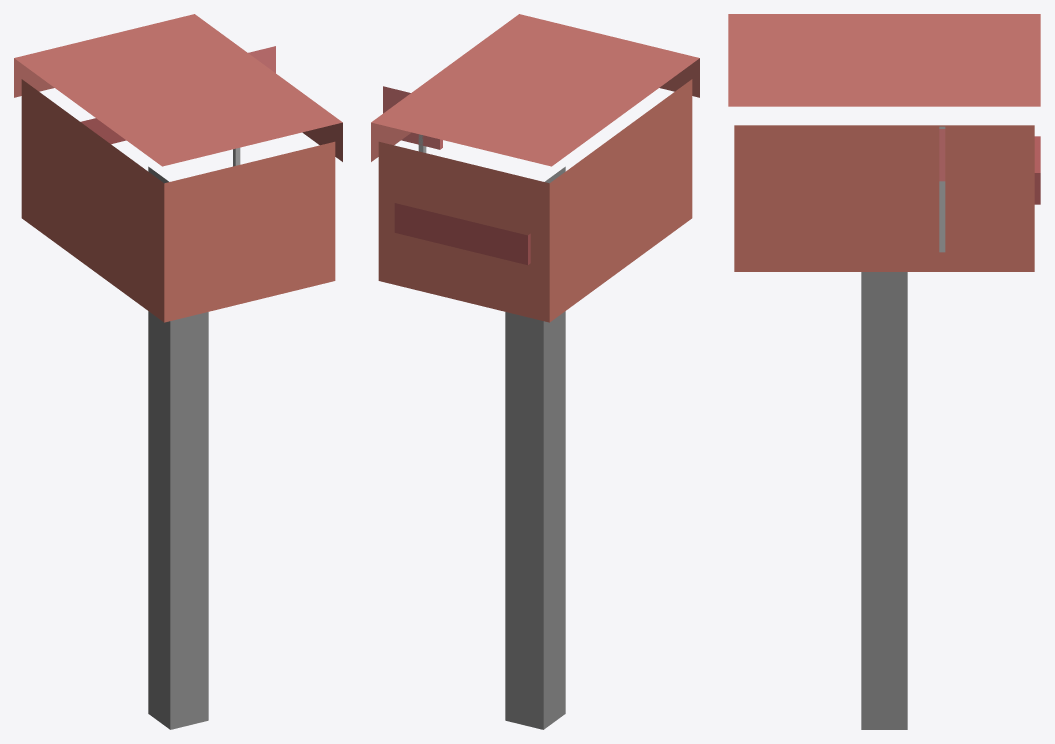
File: mailbox.glb
The picture shows the model from 3 angles, left to right: view 1: azimuth 30°, elevation 25°; view 2: azimuth 150°, elevation 25°; view 3: azimuth 270°, elevation 25°; orthographic projection. The views are drawn at different scales.
Size of the model in its own units: 0.45 by 1.26 by 0.54.
